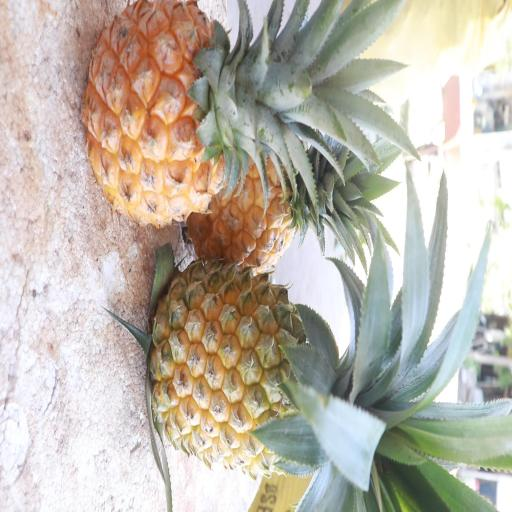Pineapple - v8 v1: (146, 260, 398, 470), (79, 0, 299, 236), (182, 130, 348, 272)
